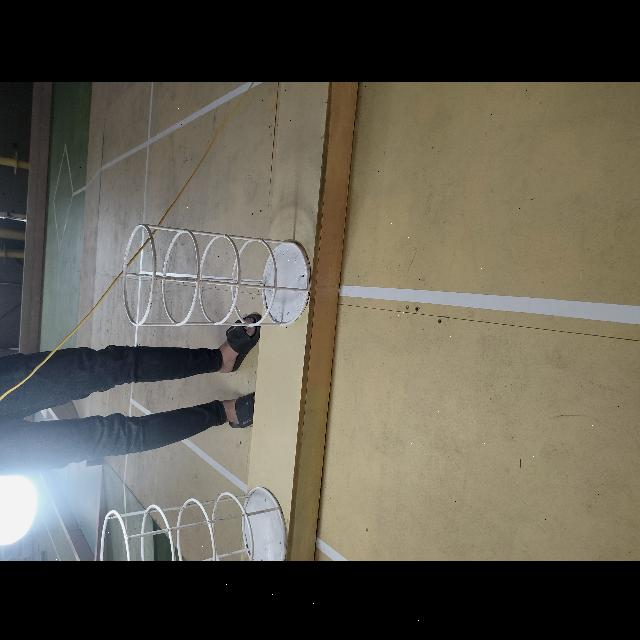S: (119, 221, 314, 328), (93, 483, 289, 560)
